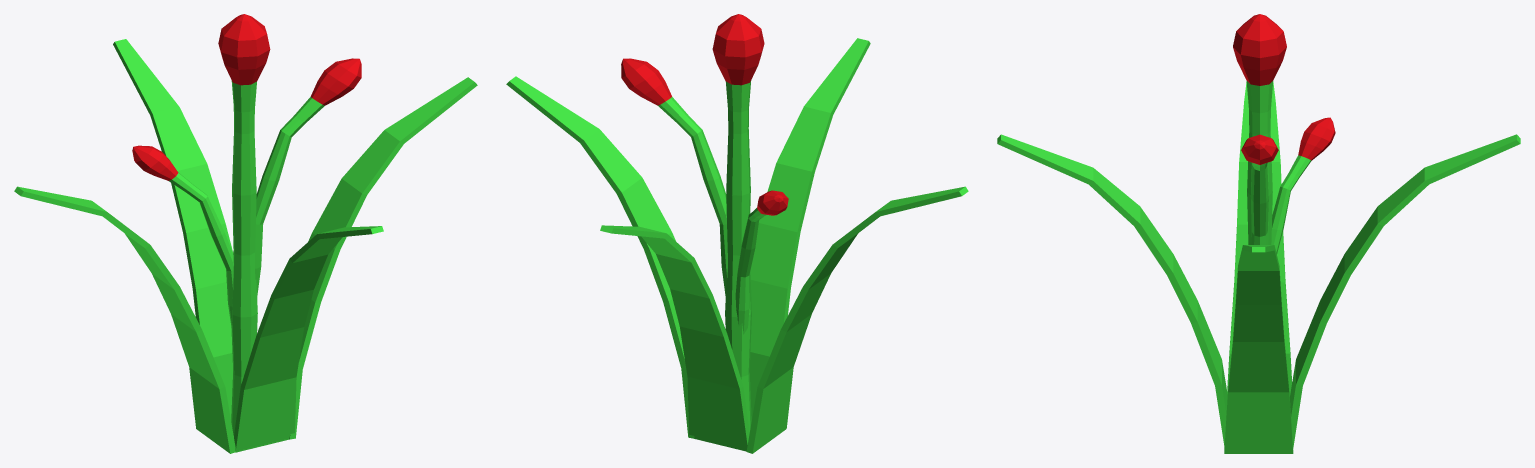
File: Plant.fbx
The picture shows the model from 3 angles, left to right: view 1: azimuth 30°, elevation 25°; view 2: azimuth 150°, elevation 25°; view 3: azimuth 270°, elevation 25°; orthographic projection.
Visible parts, largest first — view 1: Plant; view 2: Plant; view 3: Plant.
Boxes of the visible parts, left/top/right/bottom form: Plant: left=14, top=14, right=477, bottom=453; Plant: left=506, top=14, right=968, bottom=453; Plant: left=997, top=14, right=1520, bottom=453.
Bounding box in the file's own units: 75.28 × 66.16 × 74.08.
